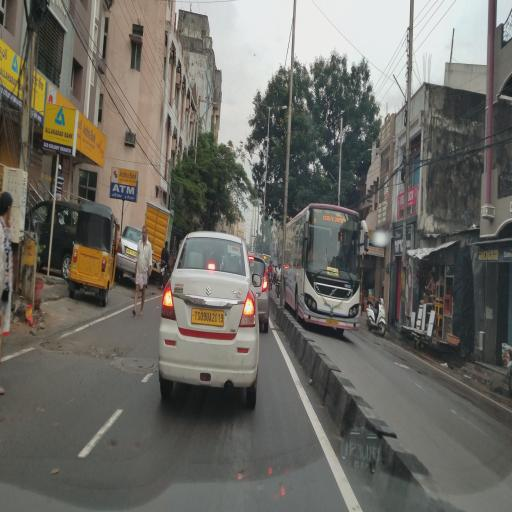street_light_0: (266, 95, 294, 121), (250, 91, 268, 109)
